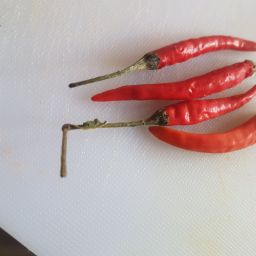Cayenne pepper: (16, 27, 256, 158), (50, 48, 256, 190), (127, 36, 256, 155)
